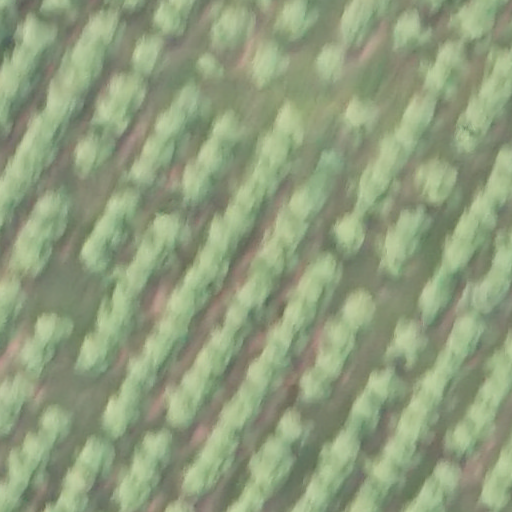eucalipto: (388, 210, 428, 266), (336, 1, 379, 50), (400, 91, 438, 146), (269, 98, 307, 149), (418, 160, 459, 206), (389, 10, 432, 53), (431, 40, 461, 99), (136, 234, 178, 276), (90, 98, 134, 138), (14, 14, 60, 52), (452, 1, 498, 39), (213, 8, 254, 50), (77, 335, 119, 376), (12, 234, 52, 277), (94, 303, 140, 340), (146, 211, 192, 247), (196, 140, 236, 180), (71, 134, 110, 175), (253, 45, 292, 86), (277, 1, 319, 39), (388, 318, 420, 366), (85, 9, 124, 48), (213, 108, 251, 148), (366, 458, 406, 496), (131, 38, 168, 79), (329, 218, 365, 260), (171, 86, 209, 125), (11, 449, 47, 490), (235, 273, 277, 308), (14, 134, 57, 168), (344, 95, 382, 133), (359, 164, 397, 202), (102, 399, 138, 439), (26, 209, 67, 244), (34, 310, 76, 344), (191, 245, 233, 279), (183, 161, 216, 204), (79, 434, 116, 472), (47, 81, 87, 116), (108, 73, 148, 108), (231, 379, 265, 420), (51, 64, 93, 97), (344, 289, 377, 331), (447, 319, 485, 355), (29, 109, 68, 144), (79, 239, 118, 274), (365, 365, 400, 404), (255, 132, 295, 166), (443, 231, 473, 276), (62, 48, 104, 80), (186, 260, 222, 297), (1, 65, 36, 103), (314, 45, 348, 84), (289, 182, 323, 221), (95, 215, 135, 248), (165, 390, 198, 430), (384, 437, 425, 469), (170, 282, 206, 318), (299, 368, 335, 404), (276, 208, 307, 249), (107, 280, 143, 315), (38, 405, 73, 441), (203, 219, 239, 254), (254, 242, 289, 278), (206, 424, 241, 460), (418, 277, 446, 322), (22, 433, 56, 470), (127, 450, 164, 484), (115, 477, 152, 511), (377, 136, 411, 173), (349, 397, 383, 434), (7, 153, 45, 186), (181, 368, 221, 399), (455, 114, 485, 155), (151, 4, 186, 39), (246, 163, 281, 198), (10, 45, 47, 78), (20, 339, 58, 371), (469, 279, 502, 315), (450, 213, 487, 245), (400, 398, 442, 426), (470, 94, 500, 133), (396, 418, 435, 448), (103, 186, 138, 219), (224, 301, 257, 336), (479, 477, 512, 512), (232, 180, 268, 212), (197, 347, 233, 379), (303, 475, 339, 507), (330, 430, 362, 466), (415, 369, 451, 401), (33, 193, 70, 224), (1, 378, 21, 435), (61, 463, 99, 493), (72, 32, 106, 65), (158, 310, 192, 343), (260, 439, 294, 472), (221, 204, 256, 236), (276, 409, 308, 444), (154, 109, 188, 141), (323, 319, 357, 351), (282, 301, 318, 331), (1, 280, 27, 321), (141, 137, 174, 169), (477, 78, 510, 110), (433, 460, 465, 493), (466, 406, 499, 438), (315, 348, 346, 382), (146, 333, 175, 369), (1, 172, 29, 209), (445, 425, 476, 458), (211, 327, 245, 357), (264, 323, 299, 352), (305, 257, 342, 284), (141, 429, 172, 461), (489, 47, 512, 90), (40, 1, 78, 27), (128, 160, 160, 190), (122, 259, 152, 291), (316, 149, 346, 181), (182, 466, 212, 498), (262, 344, 292, 376), (472, 195, 499, 230), (296, 276, 328, 305), (431, 346, 463, 375), (128, 356, 155, 390), (485, 170, 511, 205), (55, 491, 98, 512), (490, 352, 512, 393), (247, 361, 275, 393), (196, 54, 225, 83), (474, 381, 504, 409), (2, 482, 30, 512), (118, 379, 145, 409), (343, 493, 382, 512), (409, 495, 450, 512), (161, 499, 198, 512)
